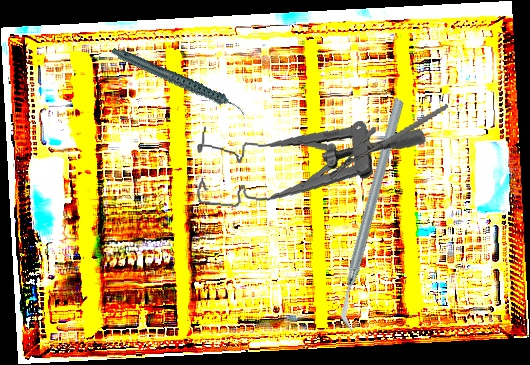Chopper: (263, 95, 484, 334)
Handpiece: (110, 23, 247, 141)
Needle Holder: (320, 104, 458, 180)
Speculum: (190, 107, 428, 224)
